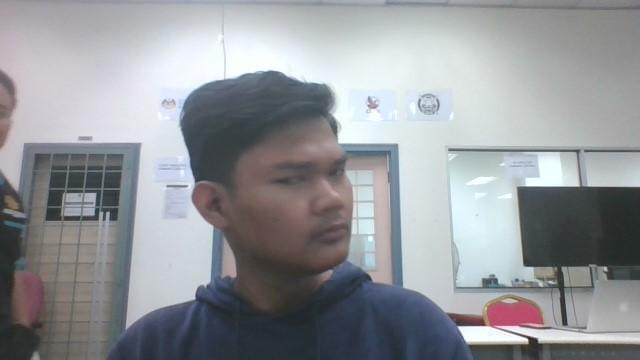senang: (167, 64, 373, 273)
